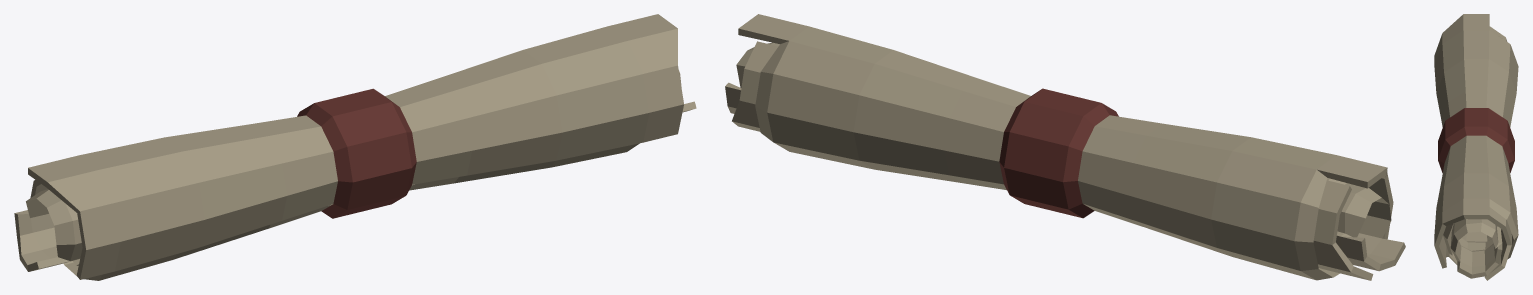
File: Scroll.glb
3 renders of one model, left to right at view 1: azimuth 30°, elevation 25°; view 2: azimuth 150°, elevation 25°; view 3: azimuth 270°, elevation 25°, orthographic. The views are drawn at different scales.
Visible parts, largest first — view 1: Scroll; view 2: Scroll; view 3: Scroll.
Part boxes in pixels (x1,y1,x2,y2): Scroll: (14, 14, 696, 280); Scroll: (725, 14, 1405, 280); Scroll: (1434, 14, 1518, 280).
Bounding box in the file's own units: 1.48 × 0.2384 × 0.2506.
